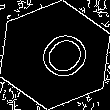O_SW: (20, 22, 90, 88)
